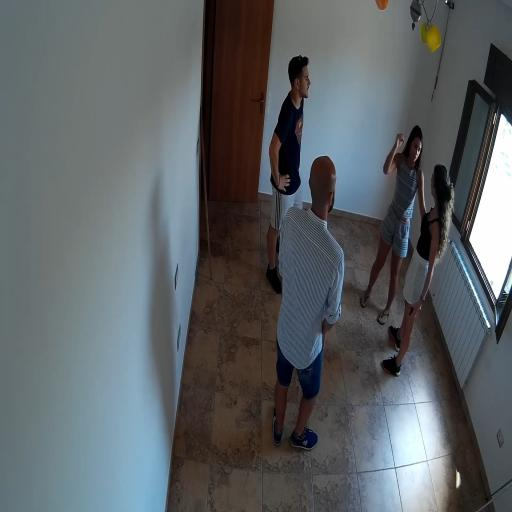nao-violencia: (354, 109, 458, 384)
